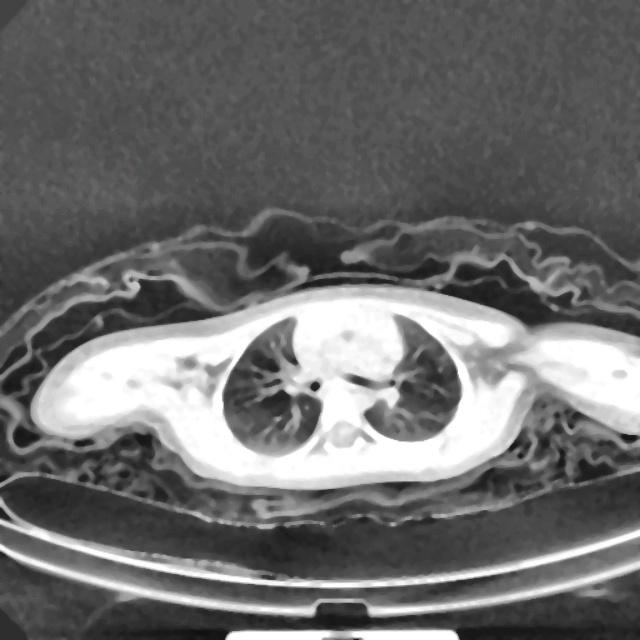covid: (26, 278, 638, 514)
